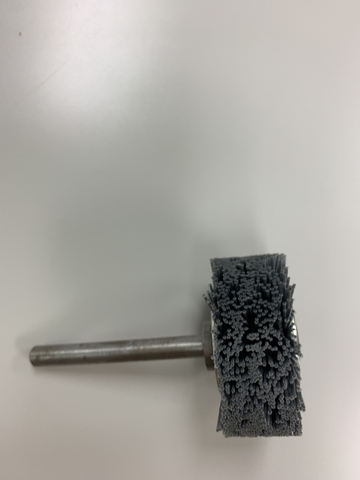Wheel Brush: (30, 252, 306, 439), (116, 245, 310, 444)
